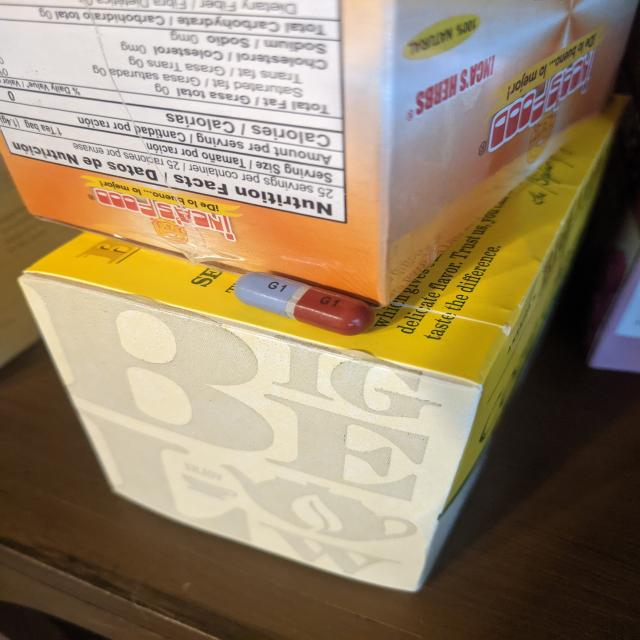non-organic waste: (233, 270, 376, 337)
